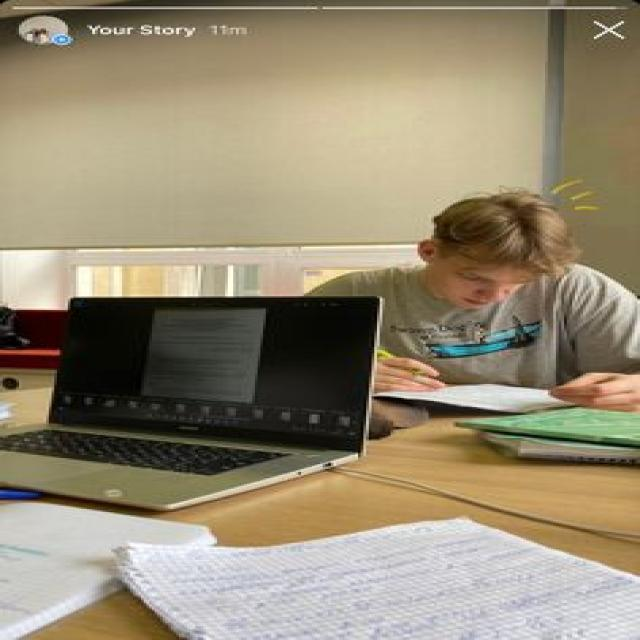9_cabeza_baja: (418, 191, 582, 311)
